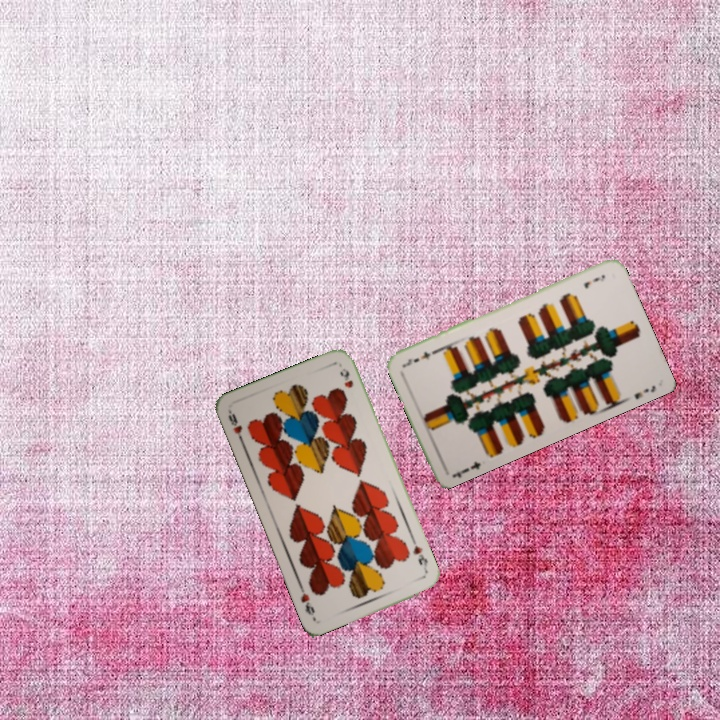E7: (449, 457, 483, 480), (580, 271, 608, 291)
H9: (408, 536, 431, 575), (224, 407, 246, 446)
